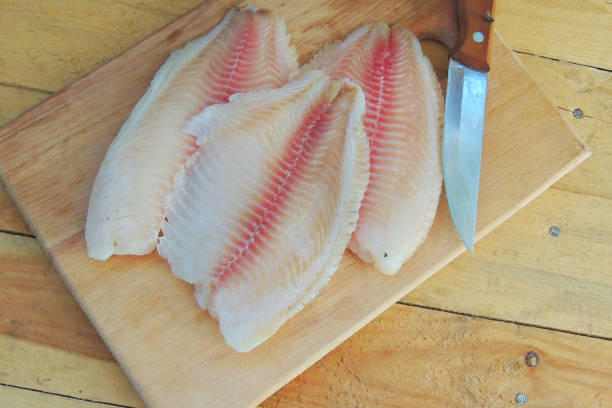bream-fish: (157, 70, 370, 353), (84, 5, 298, 262)
